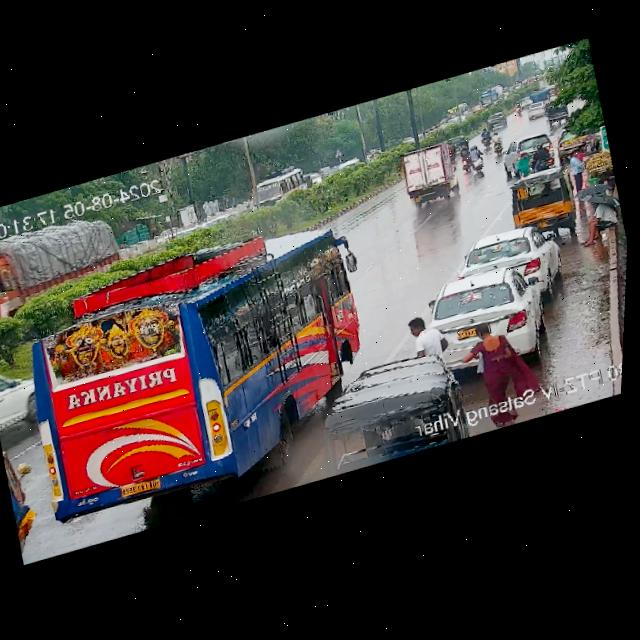bus: (0, 190, 406, 537), (240, 162, 310, 213), (474, 84, 510, 111)
car: (418, 257, 544, 376), (462, 217, 561, 301), (500, 130, 554, 176)
motorcycle: (486, 130, 509, 161), (466, 144, 486, 175), (478, 124, 492, 147), (456, 135, 470, 156), (446, 140, 458, 162), (514, 100, 523, 115)
person: (453, 312, 528, 403), (569, 186, 624, 253), (403, 306, 447, 360), (564, 144, 590, 189)
truck: (0, 211, 121, 317), (394, 136, 469, 216)
